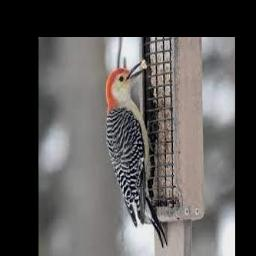Woodpecker: (106, 60, 168, 247)
